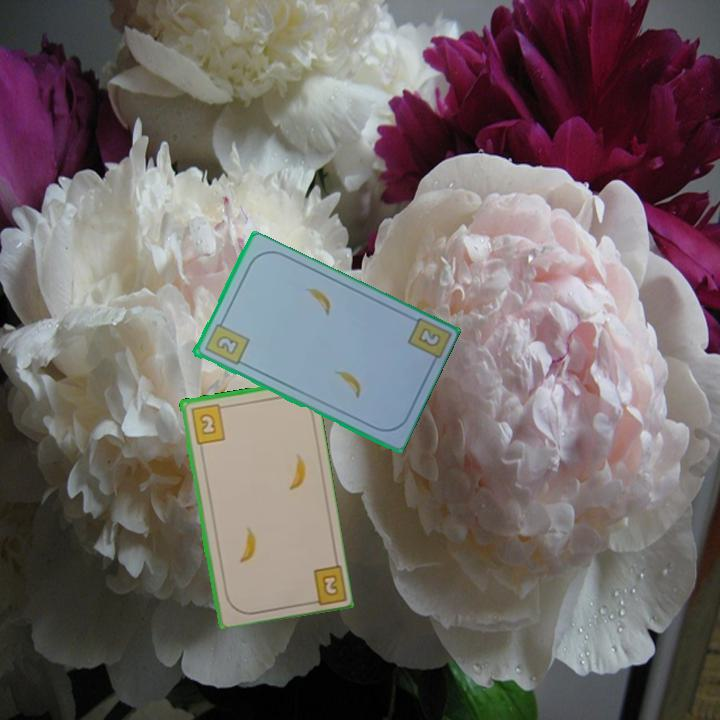2b: (201, 315, 252, 368), (303, 560, 347, 607), (187, 400, 229, 446), (414, 324, 444, 350)
